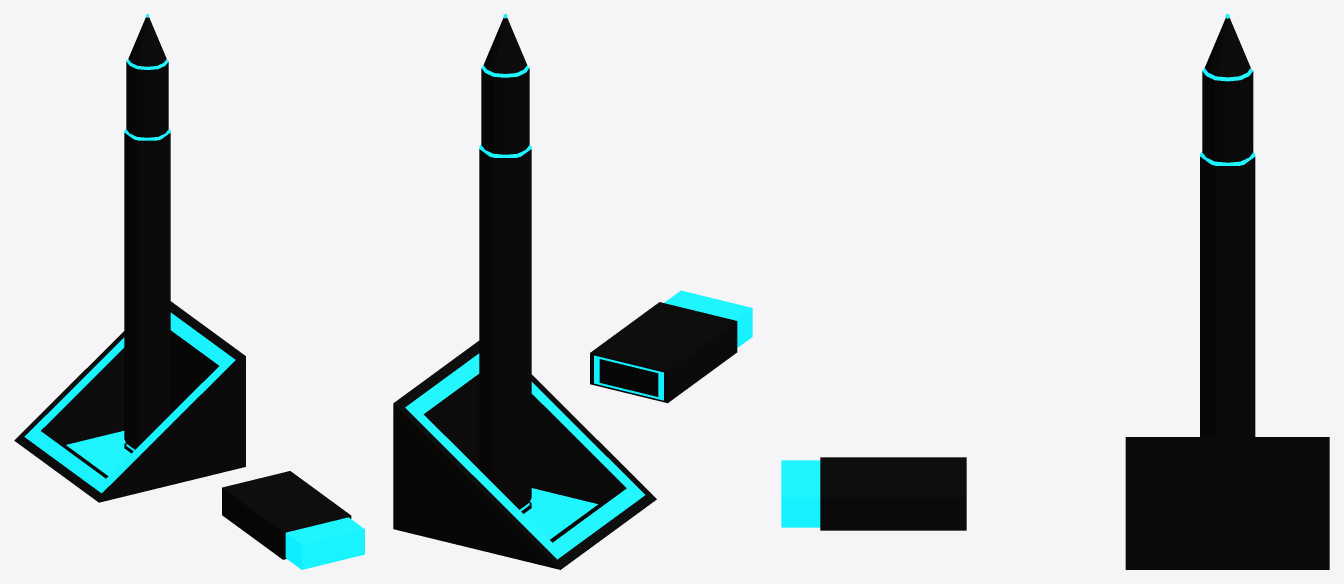
File: PenEraser.fbx
3 views of the same model, side by side, from view 1: azimuth 30°, elevation 25°; view 2: azimuth 150°, elevation 25°; view 3: azimuth 270°, elevation 25° (orthographic). The views are drawn at different scales.
Parts seen in each view (by area): view 1: Podstavka, Pen-Pine apple, Apple pen; view 2: Podstavka, Pen-Pine apple, Apple pen; view 3: Podstavka, Pen-Pine apple, Apple pen.
Part boxes in pixels (<box>): Podstavka: <box>14,301,245,502</box>; Pen-Pine apple: <box>124,14,170,453</box>; Apple pen: <box>222,471,364,569</box>; Podstavka: <box>393,341,656,569</box>; Pen-Pine apple: <box>479,14,531,513</box>; Apple pen: <box>590,290,752,403</box>; Podstavka: <box>1125,437,1329,569</box>; Pen-Pine apple: <box>1200,14,1255,436</box>; Apple pen: <box>781,457,966,530</box>.
Bounding box in the file's own units: 1868 × 1962 × 694.
